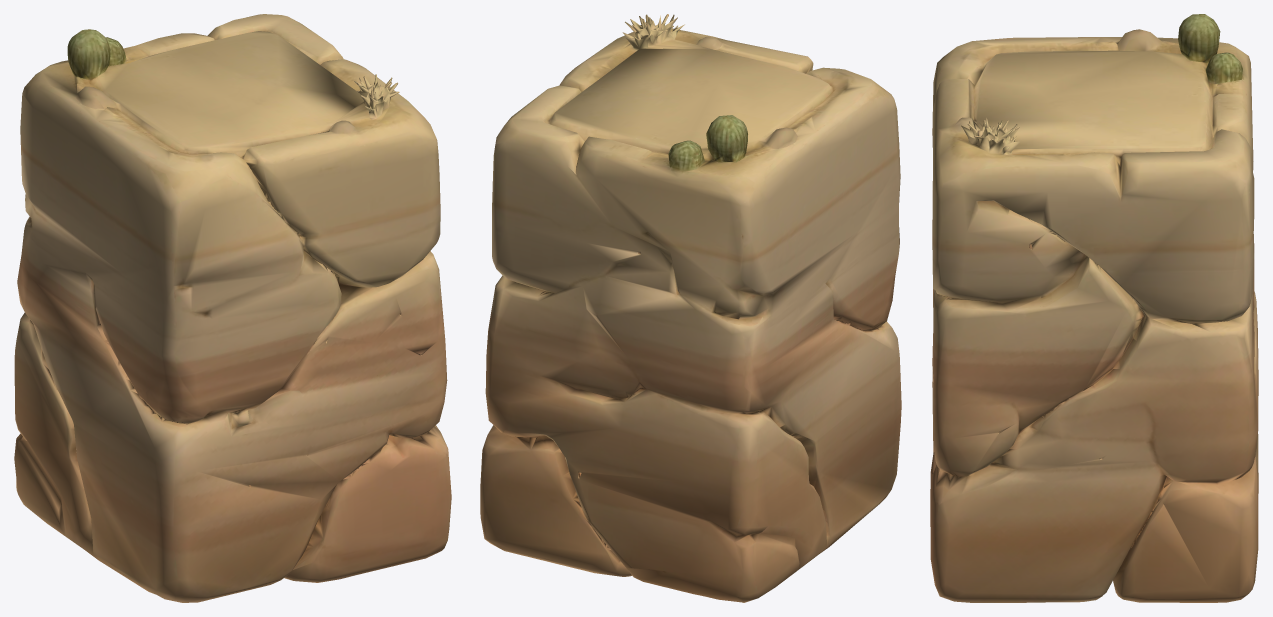
3 views of the same model, side by side, from view 1: azimuth 30°, elevation 25°; view 2: azimuth 150°, elevation 25°; view 3: azimuth 270°, elevation 25° (orthographic). The views are drawn at different scales.
Parts seen in each view (by area): view 1: world; view 2: world; view 3: world.
Boxes of the visible parts, left/top/right/bottom form: world: left=14, top=14, right=451, bottom=602; world: left=480, top=14, right=901, bottom=602; world: left=930, top=14, right=1258, bottom=602.
Size of the model in its own units: 0.6223 by 1 by 0.6191.
1 material, 1 textured.
